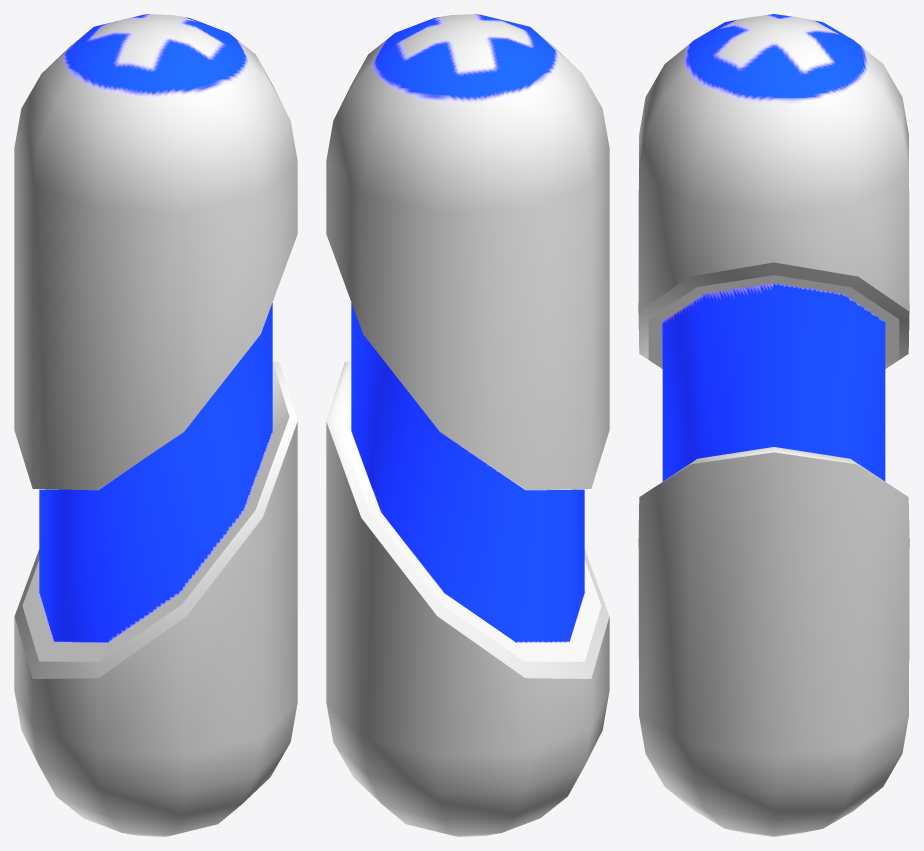
File: pill_blue.glb
3 views of the same model, side by side, from view 1: azimuth 30°, elevation 25°; view 2: azimuth 150°, elevation 25°; view 3: azimuth 270°, elevation 25° (orthographic).
Parts seen in each view (by area): view 1: Object047.001; view 2: Object047.001; view 3: Object047.001.
Boxes of the visible parts, x1,y1,x2,y2 form: Object047.001: [14, 14, 297, 836]; Object047.001: [326, 14, 609, 836]; Object047.001: [638, 14, 909, 836].
Size of the model in its own units: 0.21 by 0.65 by 0.2.
1 material, 1 textured.
